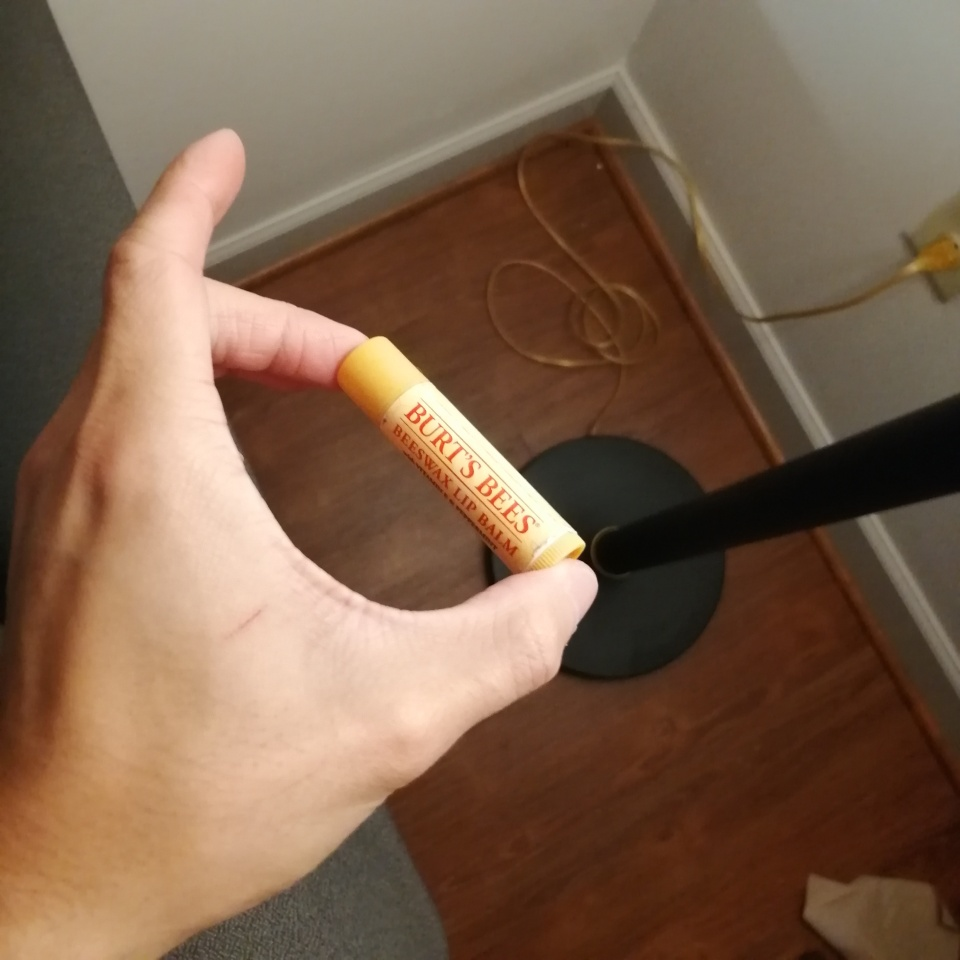chapstick: (337, 336, 587, 575)
